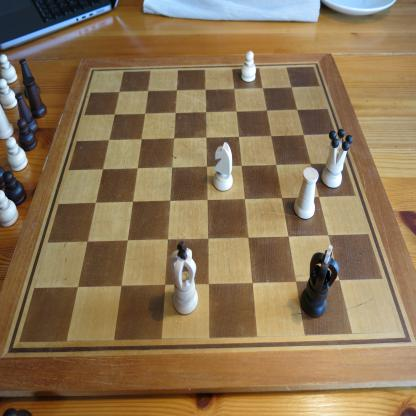black-bishop: (14, 92, 40, 136), (18, 58, 40, 98)
black-king: (299, 243, 340, 320)
black-pawn: (1, 170, 28, 209), (17, 117, 38, 152)
black-rook: (23, 75, 47, 119)
white-king: (170, 240, 199, 316)
white-knight: (212, 141, 234, 193)
white-pawn: (6, 136, 29, 173), (1, 189, 19, 230), (0, 53, 18, 85), (0, 78, 18, 109), (240, 49, 256, 83)
white-queen: (321, 127, 354, 190)
white-rook: (292, 166, 320, 222)
